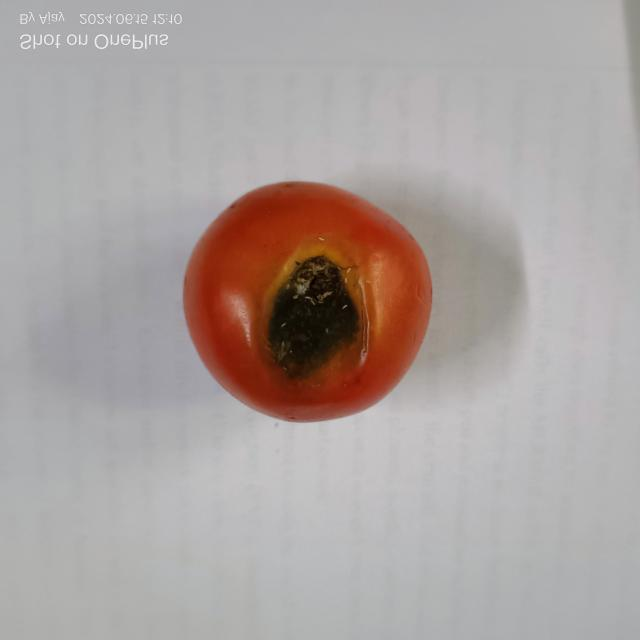Anthrocnose: (255, 252, 361, 384)
